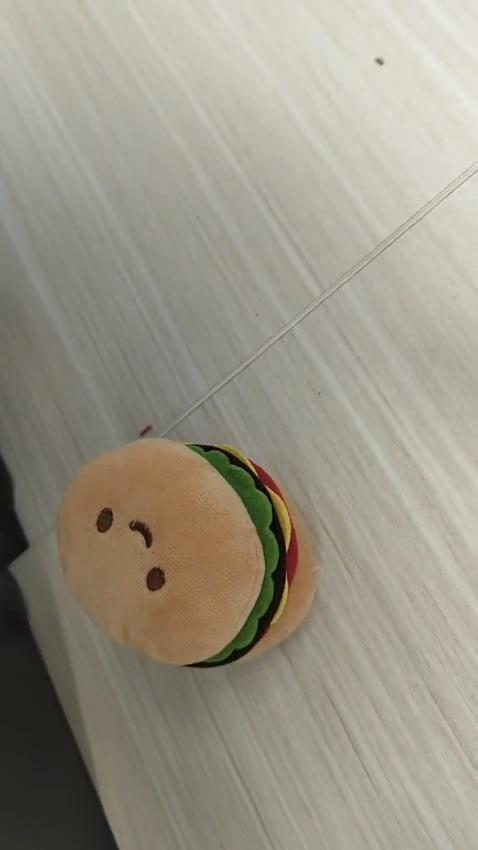hamburger: (58, 439, 319, 671)
